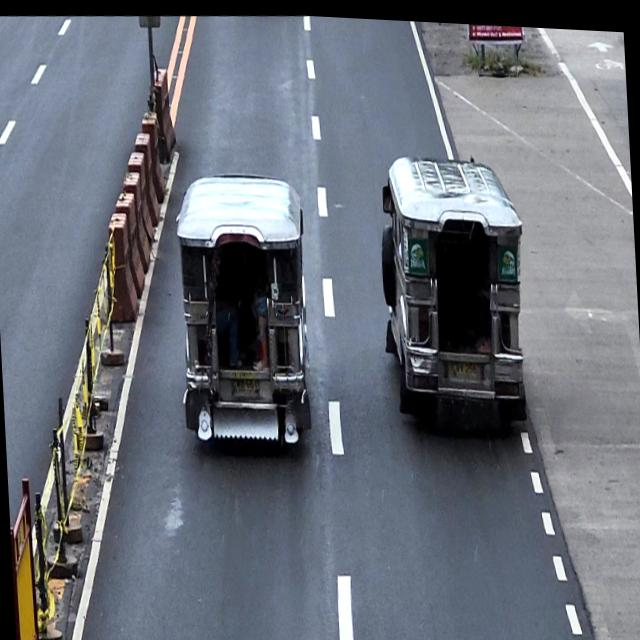Jeep: (376, 143, 532, 426), (170, 165, 316, 451)
License-Plate: (448, 353, 482, 378), (229, 372, 261, 397)
